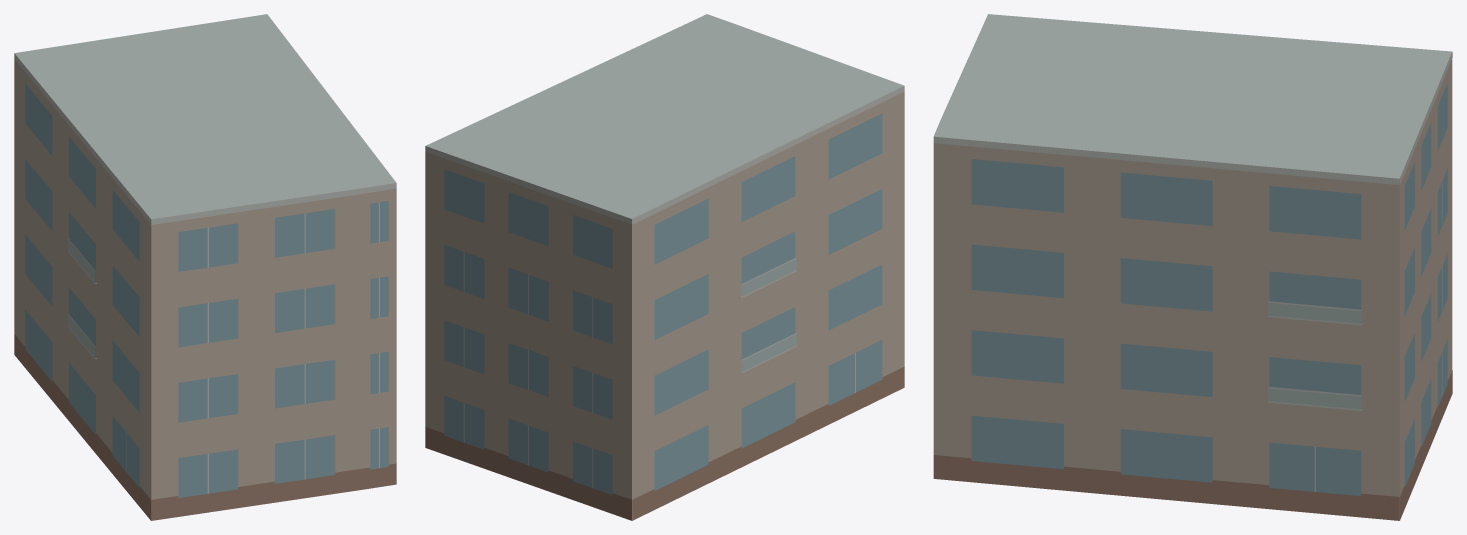
File: survey-upis-32933000.glb
The picture shows the model from 3 angles, left to right: view 1: azimuth 30°, elevation 25°; view 2: azimuth 150°, elevation 25°; view 3: azimuth 270°, elevation 25°; orthographic projection. The views are drawn at different scales.
Visible parts, largest first — view 1: survey-upis-32933000.tmp; view 2: survey-upis-32933000.tmp; view 3: survey-upis-32933000.tmp.
Part boxes in pixels (bbox=[...]): survey-upis-32933000.tmp: bbox=[14, 14, 396, 520]; survey-upis-32933000.tmp: bbox=[425, 14, 904, 520]; survey-upis-32933000.tmp: bbox=[933, 14, 1452, 520].
Bounding box in the file's own units: 13.33 × 12.9 × 17.74.
